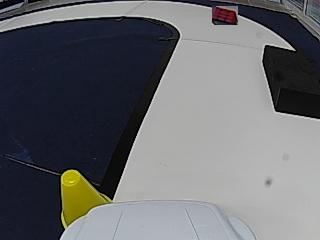block: (263, 44, 318, 117)
cone: (61, 167, 110, 203)
